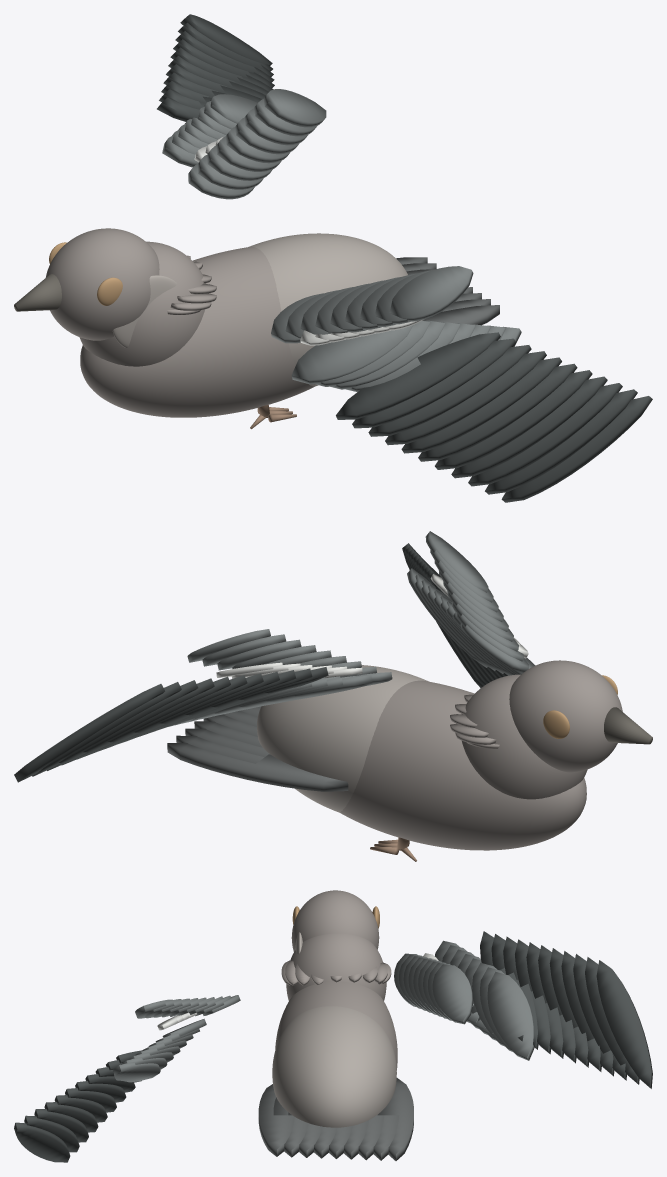
The model's file is torcazaHighPoly.glb.
3 views of the same model, one above another, from view 1: azimuth 30°, elevation 25°; view 2: azimuth 150°, elevation 25°; view 3: azimuth 270°, elevation 25° (orthographic). The views are drawn at different scales.
Parts seen in each view (by area): view 1: Torso_HighPoly, Head, Breast, Neck, Primary_-1_0, Secondary_-1_0, Covert_-1_8, Primary_-1_10, Primary_-1_9, Primary_-1_8, Primary_-1_7, Primary_-1_6 (+34 smaller); view 2: Torso_HighPoly, Breast, Head, Neck, Tail_8, Primary_1_10, Beak, Covert_-1_8, Primary_1_9, Primary_1_8, Primary_1_7, Primary_1_6 (+24 smaller); view 3: Breast, Neck, Head, Primary_1_10, Torso_HighPoly, Secondary_1_7, Covert_1_8, Tail_8, Tail_0, Primary_-1_10, Primary_1_9, Primary_1_8 (+25 smaller).
Part boxes in pixels (x1,y1,x2,y2): Torso_HighPoly: [80, 247, 314, 417]; Head: [45, 228, 159, 340]; Breast: [249, 233, 407, 386]; Neck: [79, 241, 206, 366]; Primary_-1_0: [336, 332, 500, 419]; Secondary_-1_0: [291, 325, 413, 384]; Covert_-1_8: [389, 266, 473, 321]; Primary_-1_10: [501, 396, 652, 502]; Primary_-1_9: [485, 389, 637, 494]; Primary_-1_8: [468, 383, 622, 486]; Primary_-1_7: [451, 376, 607, 478]; Primary_-1_6: [435, 370, 592, 469]; Torso_HighPoly: [340, 680, 586, 850]; Breast: [257, 665, 428, 812]; Head: [509, 660, 622, 772]; Neck: [462, 674, 587, 799]; Tail_8: [167, 743, 348, 791]; Primary_1_10: [14, 684, 164, 782]; Beak: [604, 707, 652, 744]; Covert_-1_8: [425, 531, 488, 592]; Primary_1_9: [32, 682, 181, 776]; Primary_1_8: [47, 680, 198, 770]; Primary_1_7: [61, 678, 214, 765]; Primary_1_6: [77, 676, 230, 759]; Breast: [272, 1006, 396, 1127]; Neck: [286, 933, 386, 1000]; Head: [291, 890, 379, 951]; Primary_1_10: [596, 960, 652, 1088]; Torso_HighPoly: [275, 981, 397, 1070]; Secondary_1_7: [487, 971, 534, 1060]; Covert_1_8: [432, 964, 473, 1024]; Tail_8: [378, 1078, 413, 1160]; Tail_0: [258, 1084, 294, 1156]; Primary_-1_10: [14, 1122, 70, 1162]; Primary_1_9: [585, 957, 639, 1084]; Primary_1_8: [573, 954, 626, 1080].
Size of the model in its own units: 4.58 by 2.47 by 6.87.
